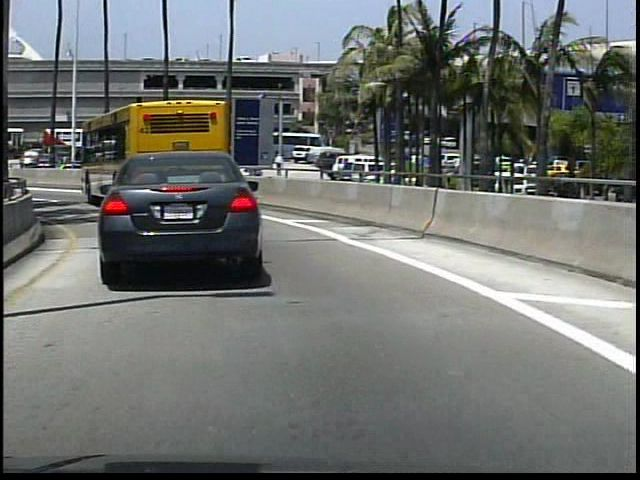car: (101, 153, 251, 289)
